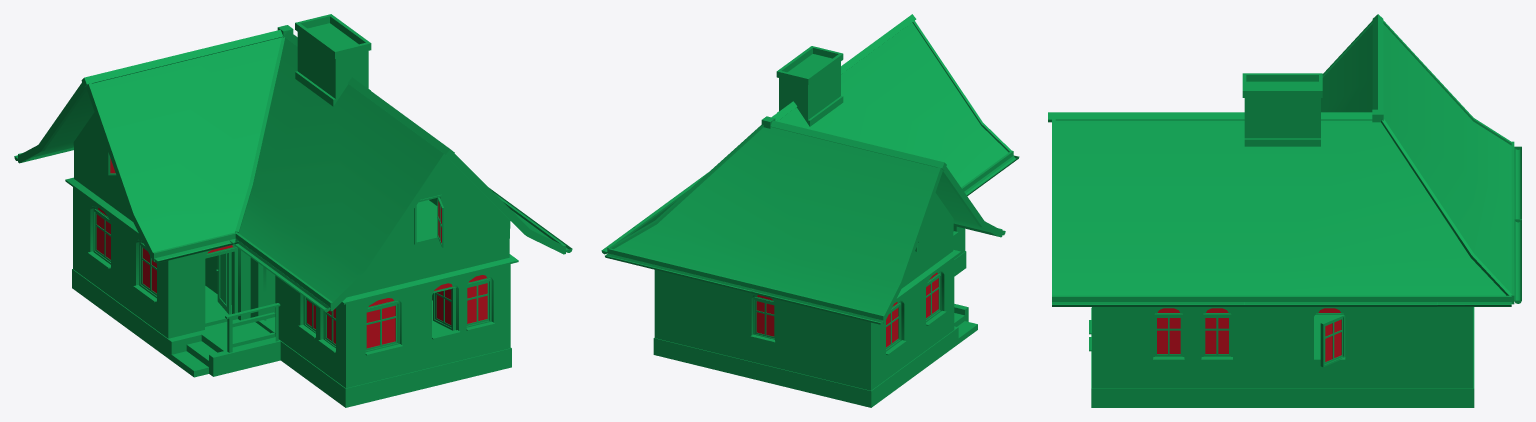
Rendered from horrorCottage.fbx.
3 views of the same model, side by side, from view 1: azimuth 30°, elevation 25°; view 2: azimuth 150°, elevation 25°; view 3: azimuth 270°, elevation 25° (orthographic). The views are drawn at different scales.
Visible parts, largest first — view 1: dach, DOL, pietro, OKNO; view 2: dach, DOL, pietro, OKNO; view 3: dach, DOL, OKNO.
Boxes of the visible parts, x1,y1,x2,y2 form: dach: (14,14,572,311); DOL: (72,187,511,407); pietro: (65,112,518,304); OKNO: (96,158,487,348); dach: (601,14,1019,324); DOL: (653,226,977,407); pietro: (895,192,960,300); OKNO: (756,272,938,347); dach: (1048,14,1521,306); DOL: (1089,307,1474,407); OKNO: (1157,308,1341,361).
Size of the model in its own units: 988 by 825 by 1242.
